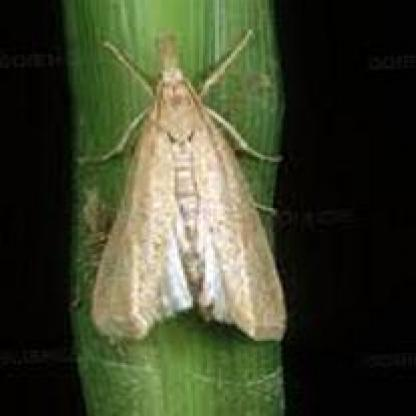stem-borer: (89, 30, 272, 346)
